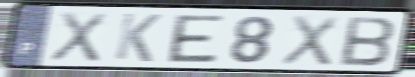8: (230, 14, 276, 65)
B: (338, 15, 398, 68)
E: (167, 13, 228, 65)
K: (112, 11, 164, 64)
X: (278, 13, 341, 68), (47, 9, 110, 64)
